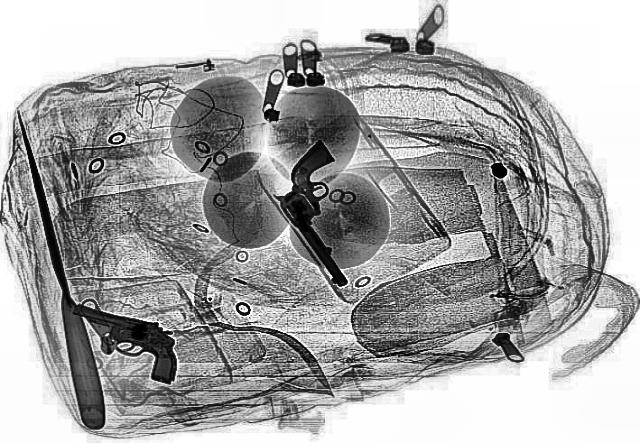Gun: (245, 139, 408, 287), (46, 302, 202, 385)
Knife: (8, 105, 108, 429)
